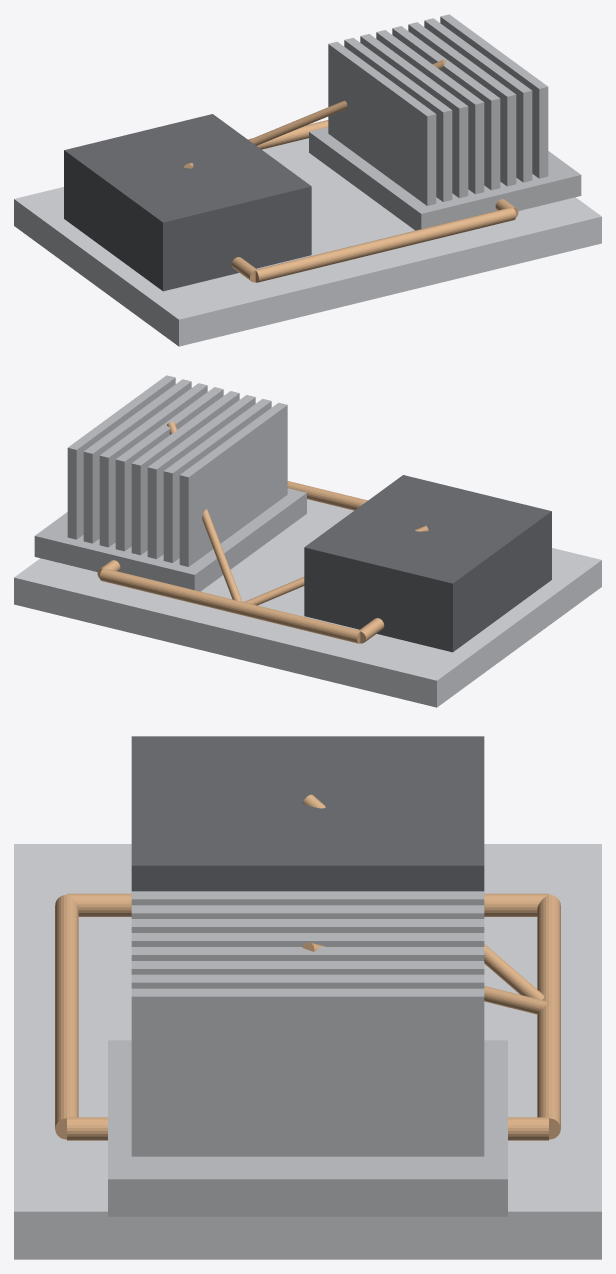
File: hero.glb
The picture shows the model from 3 angles, top to bottom: view 1: azimuth 30°, elevation 25°; view 2: azimuth 150°, elevation 25°; view 3: azimuth 270°, elevation 25°; orthographic projection. The views are drawn at different scales.
Visible parts, largest first — view 1: heat_sink, assembly_base, heat_source, coolant_loop, link_coolant_loop__heat_sink; view 2: heat_sink, assembly_base, heat_source, coolant_loop, link_coolant_loop__heat_sink, link_coolant_loop__heat_source; view 3: heat_sink, assembly_base, heat_source, coolant_loop, link_coolant_loop__heat_source, link_coolant_loop__heat_sink.
Part boxes in pixels (x1,y1,x2,y2): heat_sink: (309,14,581,230); assembly_base: (14,138,601,346); heat_source: (64,114,311,291); coolant_loop: (231,120,518,282); link_coolant_loop__heat_sink: (249,59,445,145); heat_sink: (34,375,306,591); assembly_base: (14,499,601,707); heat_source: (304,475,551,652); coolant_loop: (97,481,384,643); link_coolant_loop__heat_sink: (167,422,242,601); link_coolant_loop__heat_source: (244,525,428,605); heat_sink: (108,891,507,1216); assembly_base: (14,844,601,1259); heat_source: (131,736,484,891); coolant_loop: (55,893,560,1140); link_coolant_loop__heat_source: (302,794,544,999); link_coolant_loop__heat_sink: (302,942,546,1014).
Bounding box in the file's own units: 5 × 1.57 × 3.33.
